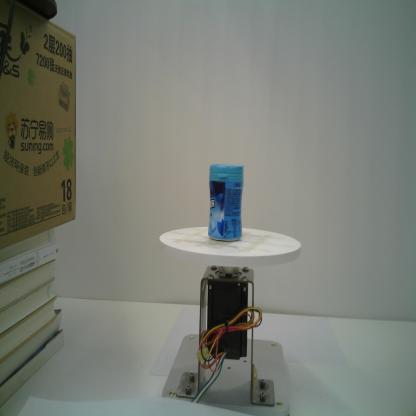Gum: (207, 163, 245, 242)
